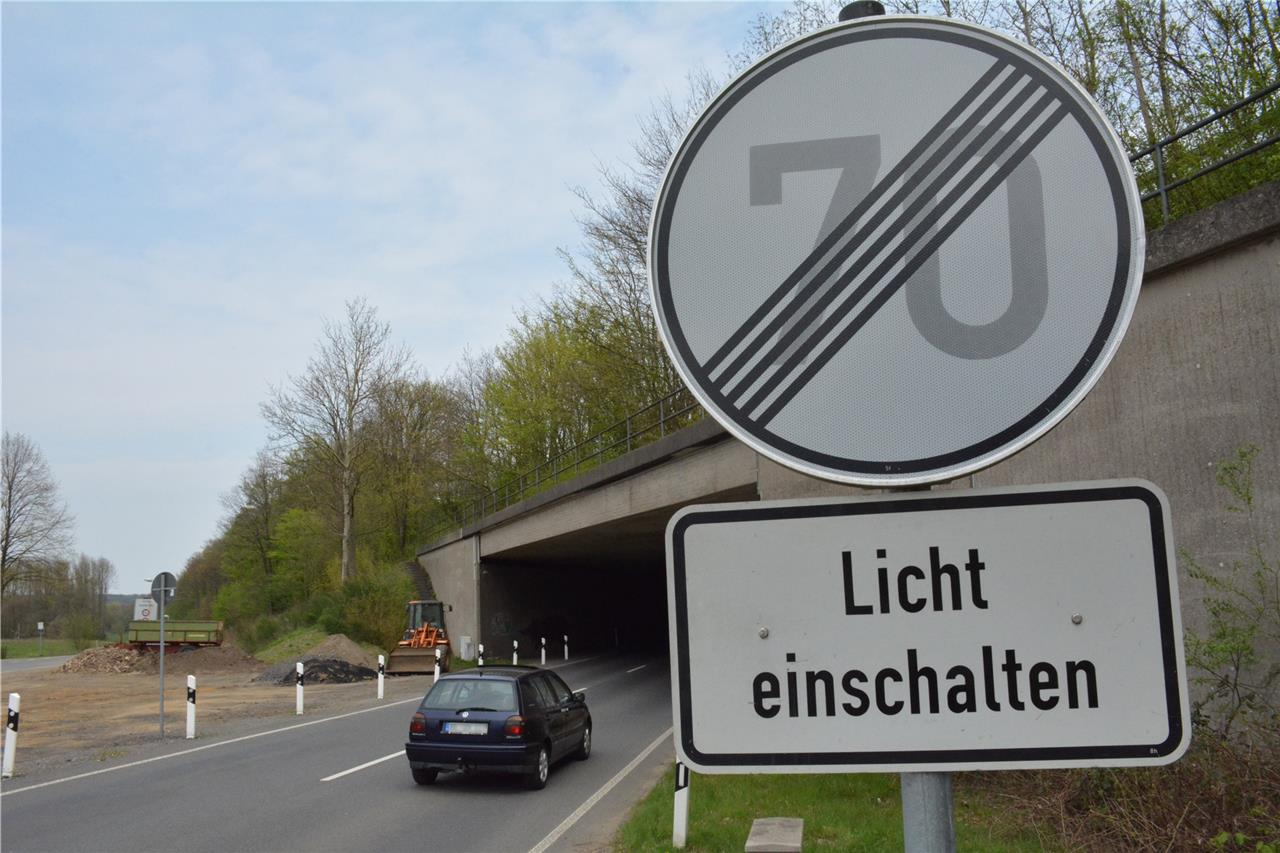aufgehoben: (647, 13, 1148, 485)
